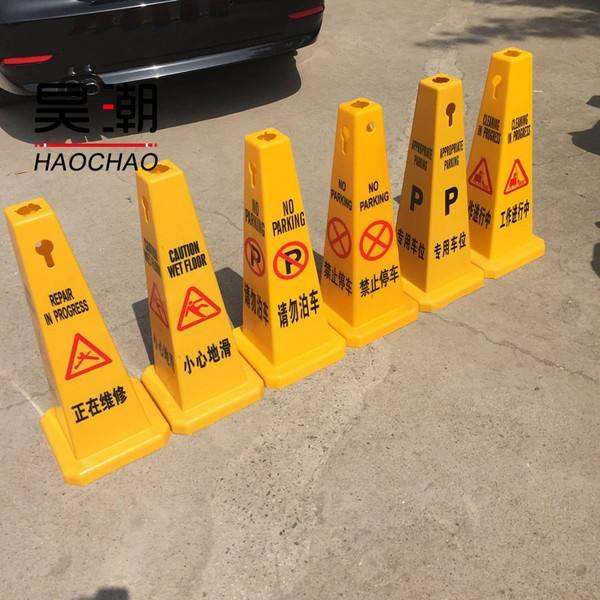sign: (1, 190, 140, 473), (129, 154, 241, 415), (220, 120, 323, 362), (318, 89, 416, 330), (475, 49, 558, 281), (399, 68, 480, 294)
